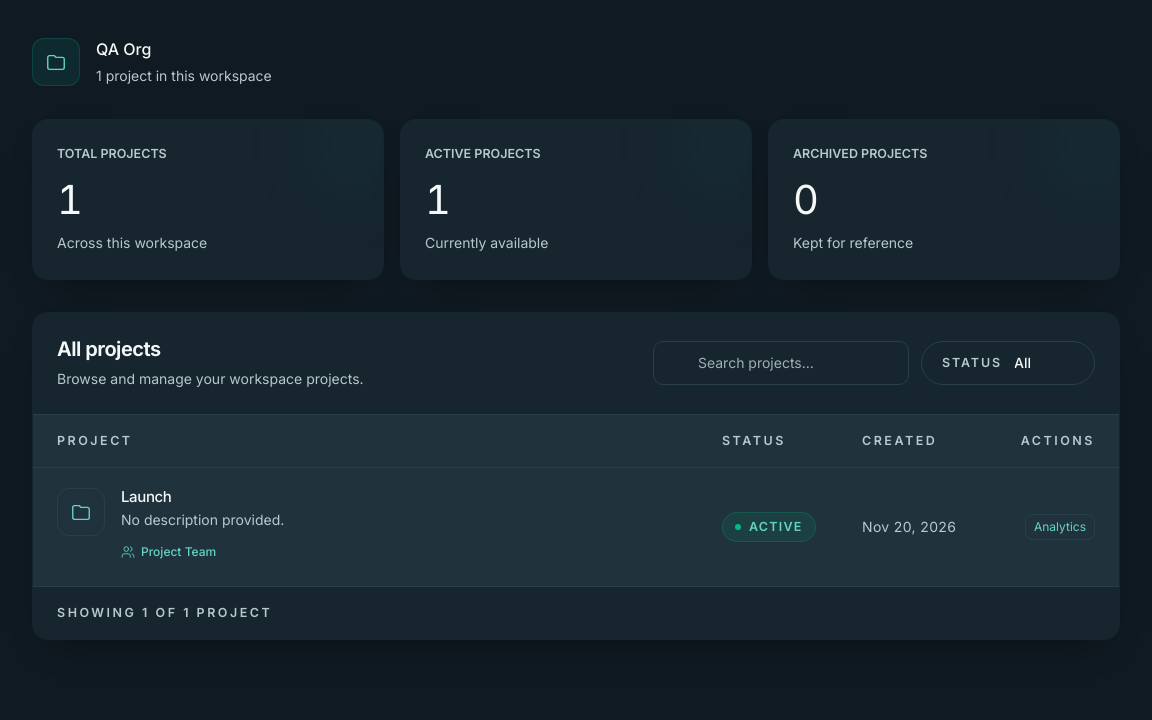
Test: Project Team controls › lets a manager open an authorized team and select only existing employees
The width and height of the screenshot is (1152, 720).
(page scrolled)
Click the button "Project Team": click(169, 552) [121,544,216,560]
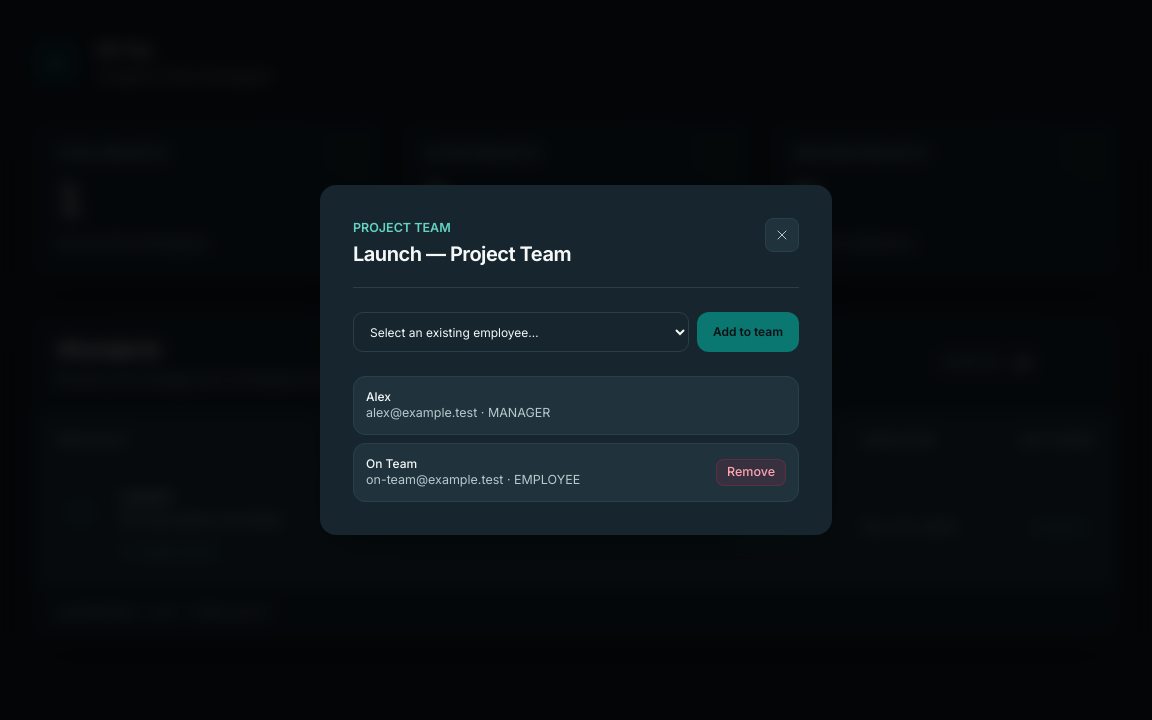
Check: the dialog named "Project Team for Launch" is shown, box [320,185,832,535]
Check: the number of buttons "Remove" is 1, box [716,459,786,486]
